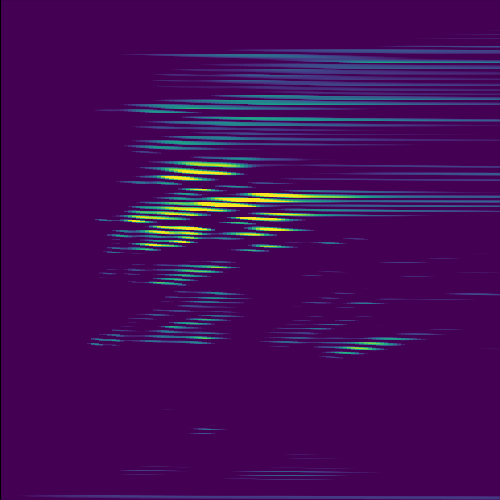semblance: (145, 190, 333, 218), (144, 158, 254, 185), (225, 210, 320, 239)
